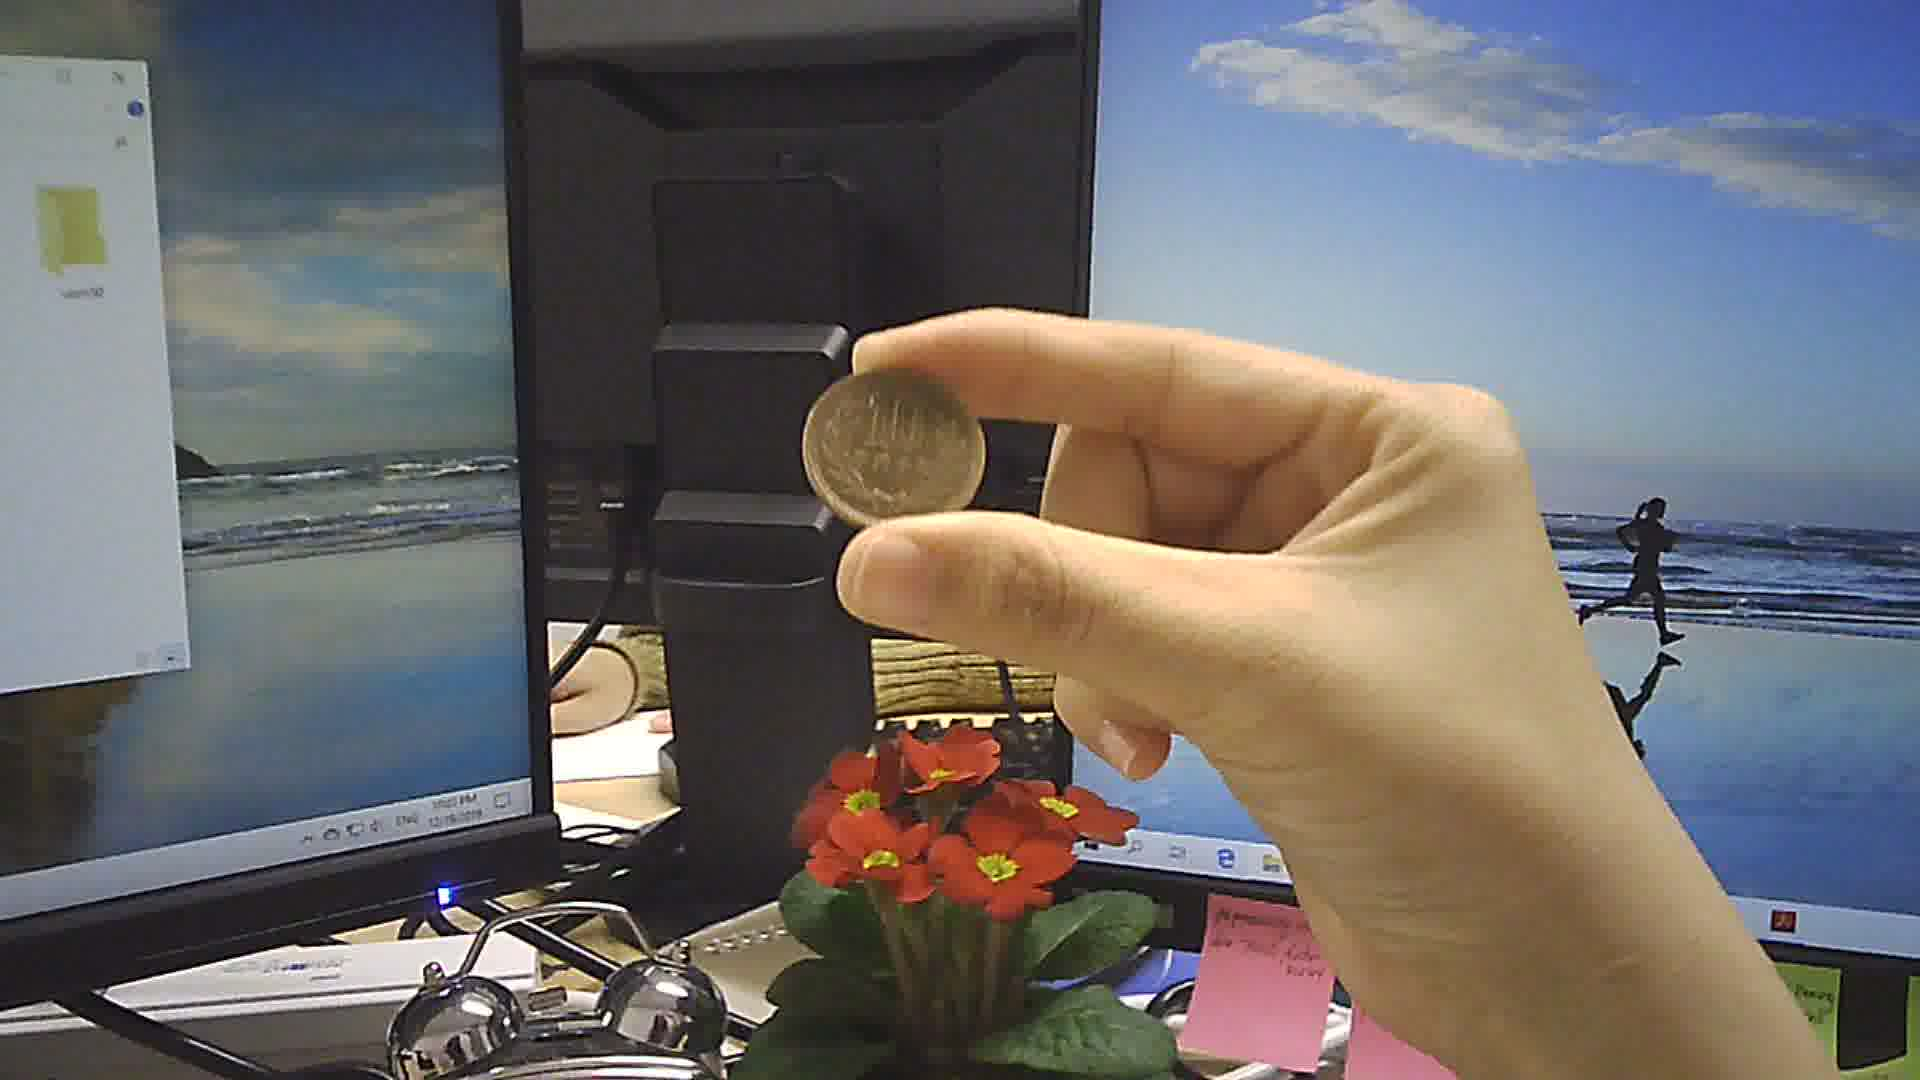10 Yen: (800, 353, 992, 527)
